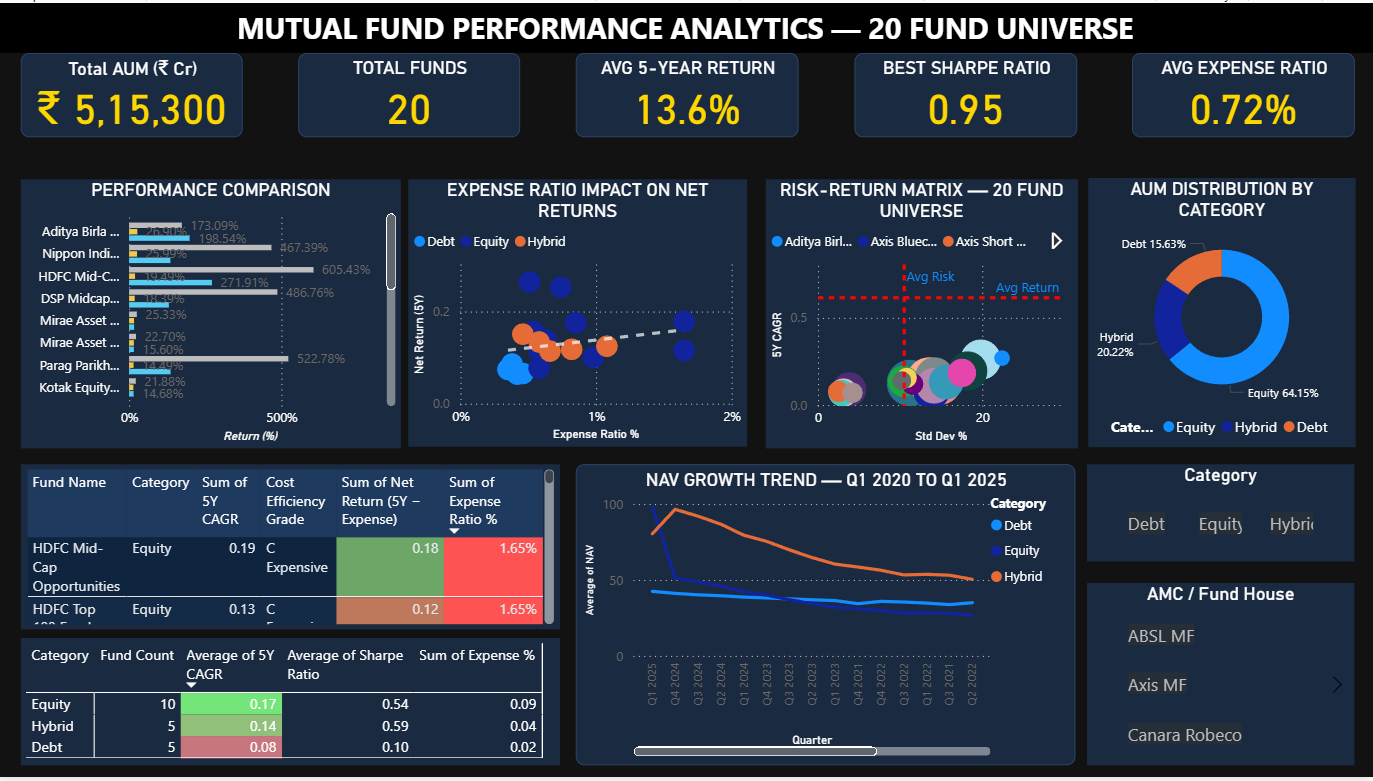

This screenshot's page, from the dashboard's own definition file:
{"tool":"powerbi","page":{"name":"KPI Overview","canvas":[1280,720],"ordinal":0},"visuals":[{"type":"textbox","box":[0,0,1280.2,46.5],"z":0},{"type":"card","title":"Total AUM (₹ Cr)","fields":{"Values":["Sum(Fund Master Data.AUM (₹ Cr))"]},"box":[22.5,46.2,206.2,78.8],"z":1000},{"type":"card","title":"TOTAL FUNDS ","fields":{"Values":["Fund Master Data.Fund Count"]},"box":[280.3,46.2,206.2,78.8],"z":2000},{"type":"card","title":"AVG 5-YEAR RETURN","fields":{"Values":["Financial Calculations.Avg 5Y Return"]},"box":[538.1,46.2,207.5,78.8],"z":3000},{"type":"card","title":"AVG EXPENSE RATIO","fields":{"Values":["Avg(Financial Calculations.Expense %)"]},"box":[1056.2,46.2,207.5,78.8],"z":4000},{"type":"card","title":"BEST SHARPE RATIO","fields":{"Values":["Financial Calculations.Top Sharpe"]},"box":[797.2,46.2,207.5,78.8],"z":5000},{"type":"clusteredBarChart","title":"PERFORMANCE COMPARISON","fields":{"Category":["Financial Calculations.Fund Name"],"Y":["Sum(Financial Calculations.1Y Return)","Sum(Financial Calculations.5Y CAGR)","Sum(Financial Calculations.3Y CAGR)"]},"box":[22.5,163.8,353.8,250],"z":6000},{"type":"advancedSlicerVisual","fields":{"Values":["Fund Master Data.AMC / Fund House"]},"box":[1014,539.5,248.8,169.8],"z":7000},{"type":"scatterChart","title":"RISK-RETURN MATRIX — 20 FUND UNIVERSE","fields":{"X":["Sum(Risk-Return Analysis.Std Dev%)"],"Y":["Sum(Risk-Return Analysis.5Y CAGR)"],"Size":["Sum(Fund Master Data.AUM (₹ Cr))"],"Series":["Expense Ratio Analysis.Fund Name"]},"box":[715,163.8,290,250],"z":8000},{"type":"scatterChart","title":"EXPENSE RATIO IMPACT ON NET RETURNS","fields":{"X":["Sum(Expense Ratio Analysis.Expense Ratio %)"],"Y":["Expense Ratio Analysis.Net Return (5Y − Expense)"],"Series":["Expense Ratio Analysis.Category"]},"box":[382.5,163.8,315,248.8],"z":9000},{"type":"tableEx","fields":{"Values":["Expense Ratio Analysis.Fund Name","Expense Ratio Analysis.Category","Sum(Expense Ratio Analysis.5Y CAGR)","Expense Ratio Analysis.Cost Efficiency Grade","Sum(Expense Ratio Analysis.Net Return (5Y − Expense))","Sum(Expense Ratio Analysis.Expense Ratio %)"]},"box":[22.5,428.8,501.2,153.8],"z":10000},{"type":"lineChart","title":"NAV GROWTH TREND — Q1 2020 TO Q1 2025","fields":{"Category":["NAV Trend Data.Quarter"],"Y":["Avg(NAV Trend Data.NAV)"],"Series":["NAV Trend Data.Fund Master Data.Category"]},"box":[538.4,429.1,465.1,280.2],"z":11000},{"type":"donutChart","title":"AUM DISTRIBUTION BY CATEGORY","fields":{"Category":["Fund Master Data.Category"],"Y":["Sum(Fund Master Data.AUM (₹ Cr))"]},"box":[1015,162.5,248.8,250],"z":12000},{"type":"pivotTable","title":"AUM DISTRIBUTION BY CATEGORY","fields":{"Rows":["Fund Master Data.Category"],"Values":["Fund Master Data.Fund Count","Avg(Financial Calculations.5Y CAGR)","Avg(Financial Calculations.Sharpe Ratio)","Sum(Financial Calculations.Expense %)"]},"box":[22.5,591.2,501.2,118.8],"z":13000},{"type":"advancedSlicerVisual","fields":{"Values":["NAV Trend Data.Fund Master Data.Category"]},"box":[1014,429.1,248.8,90.7],"z":14000}]}

Visuals, with their boxes in screenshot pixels (x1, y1, x2, y2), scaled from the page's 1280x720 canvas onto the 1373x781 screenshot:
textbox: BBox(0, 0, 1372, 50)
"Total AUM (₹ Cr)" card: BBox(24, 50, 245, 136)
"TOTAL FUNDS " card: BBox(301, 50, 522, 136)
"AVG 5-YEAR RETURN" card: BBox(577, 50, 800, 136)
"AVG EXPENSE RATIO" card: BBox(1133, 50, 1356, 136)
"BEST SHARPE RATIO" card: BBox(855, 50, 1078, 136)
"PERFORMANCE COMPARISON" clusteredBarChart: BBox(24, 178, 404, 449)
advancedSlicerVisual - Fund Master Data.AMC / Fund House: BBox(1088, 585, 1355, 769)
"RISK-RETURN MATRIX — 20 FUND UNIVERSE" scatterChart: BBox(767, 178, 1078, 449)
"EXPENSE RATIO IMPACT ON NET RETURNS" scatterChart: BBox(410, 178, 748, 448)
tableEx - Expense Ratio Analysis.Fund Name x Expense Ratio Analysis.Category: BBox(24, 465, 562, 632)
"NAV GROWTH TREND — Q1 2020 TO Q1 2025" lineChart: BBox(578, 465, 1076, 769)
"AUM DISTRIBUTION BY CATEGORY" donutChart: BBox(1089, 176, 1356, 447)
"AUM DISTRIBUTION BY CATEGORY" pivotTable: BBox(24, 641, 562, 770)
advancedSlicerVisual - NAV Trend Data.Fund Master Data.Category: BBox(1088, 465, 1355, 564)
